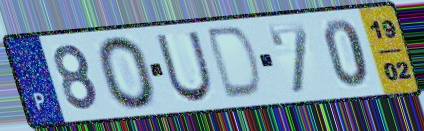0: (321, 17, 372, 90)
7: (266, 21, 311, 96)
8: (51, 42, 101, 113)
D: (205, 24, 266, 102)
O: (94, 34, 159, 112)
U: (153, 29, 216, 105)
